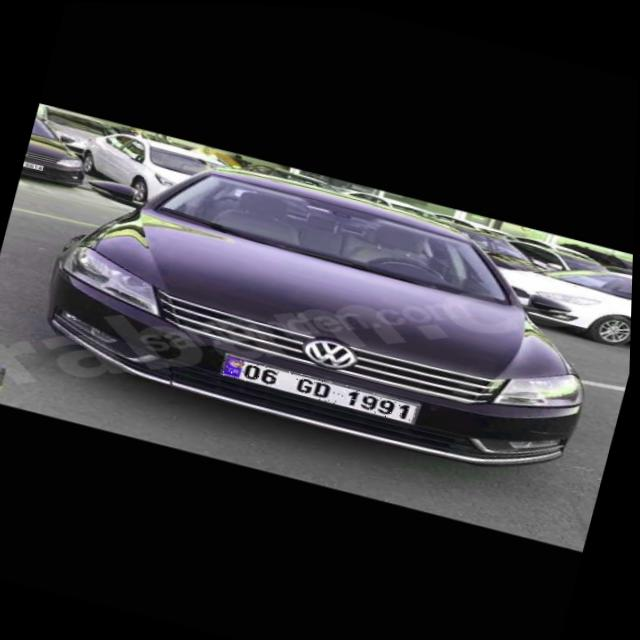license_plate: (221, 353, 421, 421)
